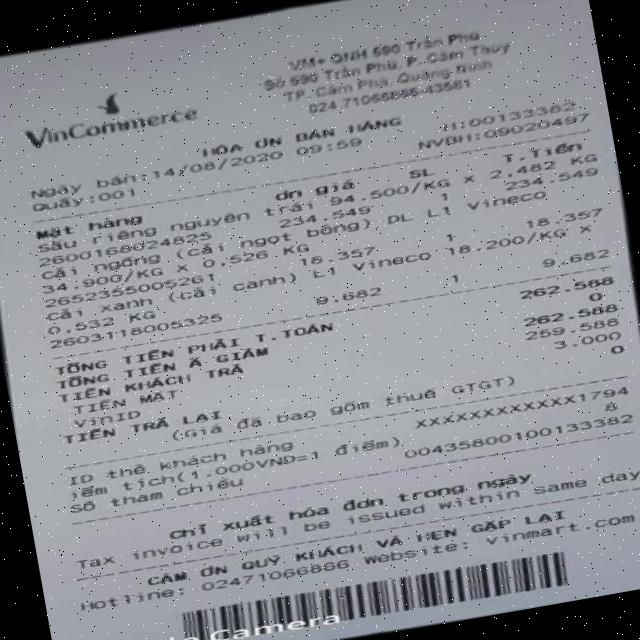Date: (150, 146, 287, 188)
Store_Name: (8, 61, 225, 165)
amount_number: (504, 268, 626, 306)
label_total: (52, 312, 338, 379)
